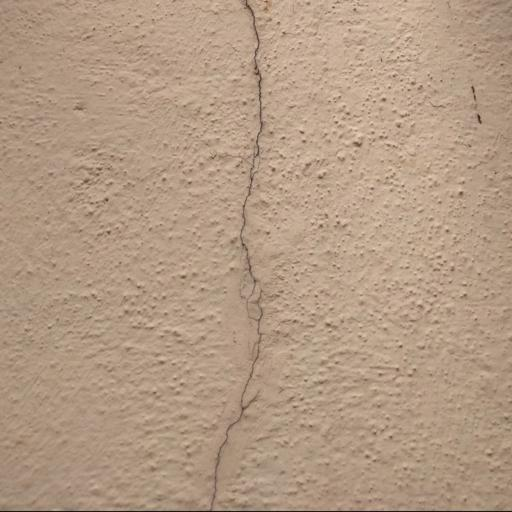minor_crack: (204, 0, 281, 512)
